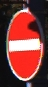No entry: (6, 8, 43, 80)
